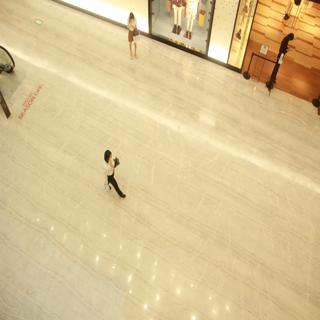person: (97, 133, 139, 207), (124, 5, 144, 66)
